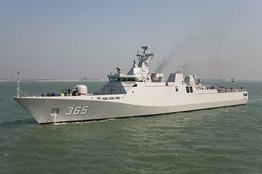warship: (11, 39, 249, 128)
